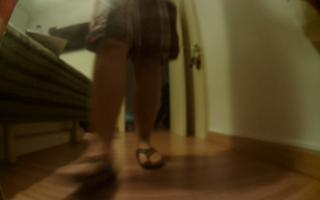person: (53, 1, 177, 187)
